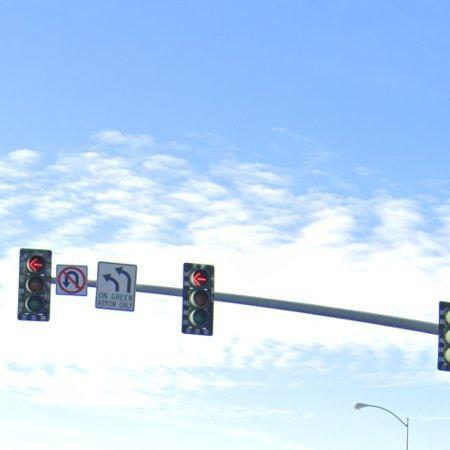traffic lights: (179, 262, 216, 337), (16, 249, 53, 323)
